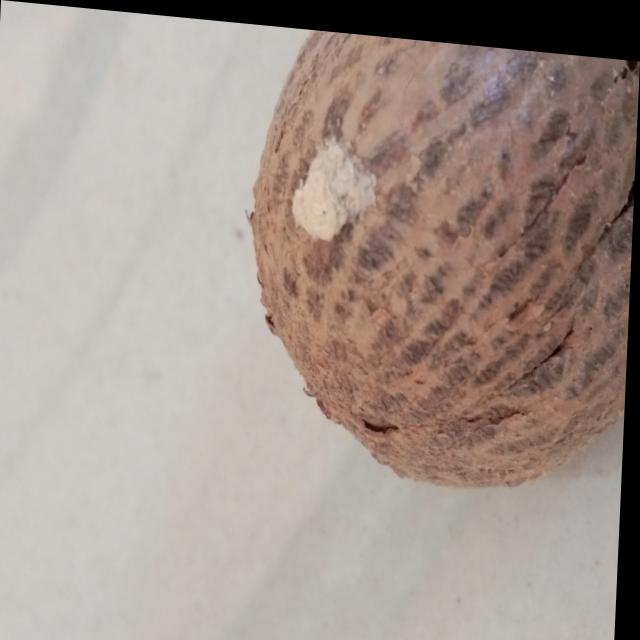phatora: (233, 19, 640, 511)
